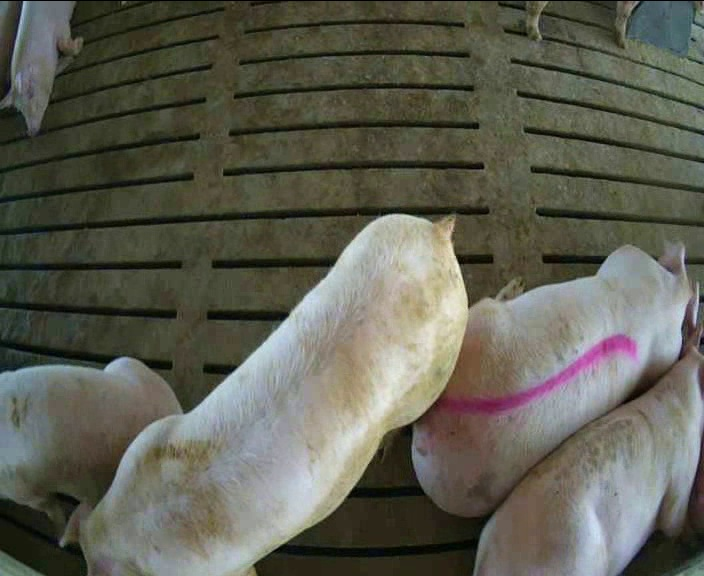pig: (58, 215, 467, 573), (412, 245, 698, 516), (476, 322, 703, 574), (0, 357, 181, 531), (0, 1, 81, 135)
